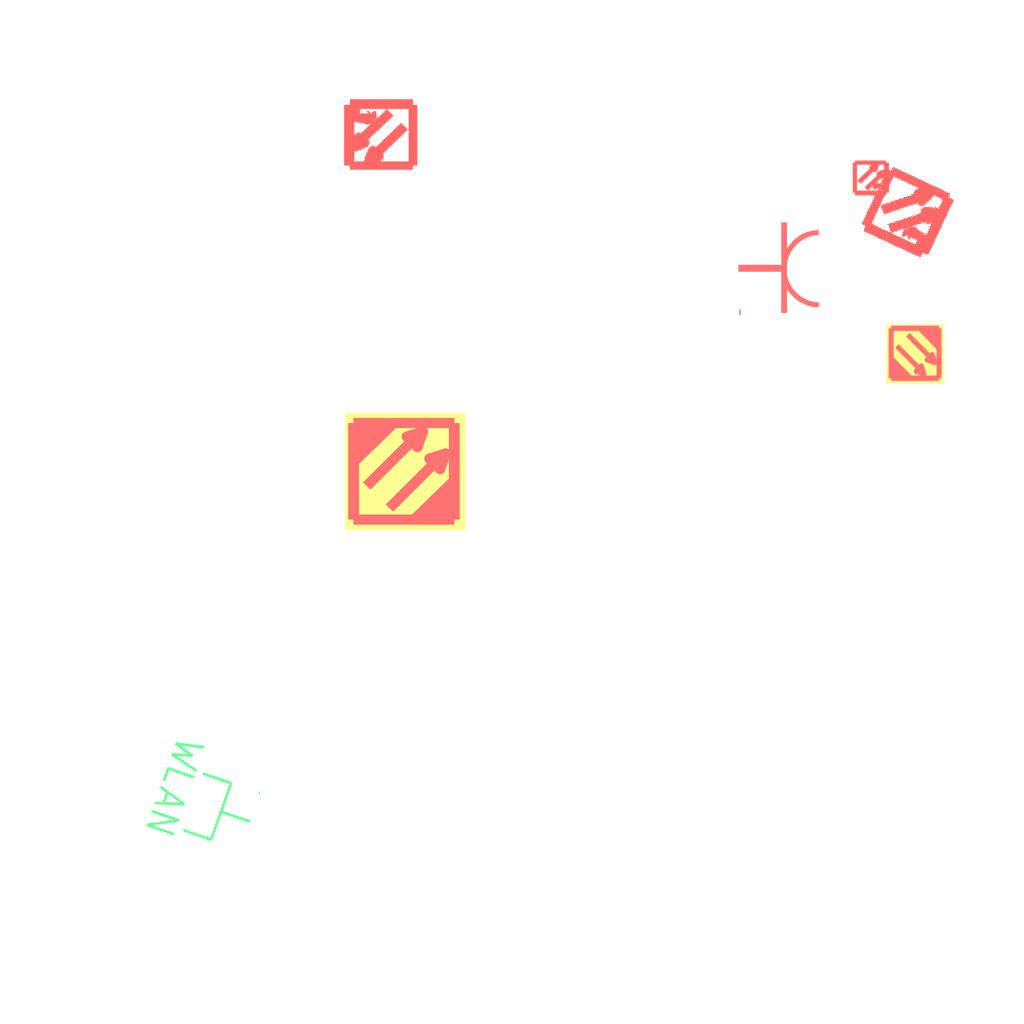ASR_Ansaugrauchmelder: (343, 409, 468, 534), (884, 323, 946, 385)
OT_Multisensormelder_(Kombination_RMO_WMD): (834, 138, 985, 289), (322, 78, 435, 191), (844, 150, 900, 206)
Schukosteckdose_einfach: (736, 220, 823, 320)
WLAN: (140, 729, 274, 864)
